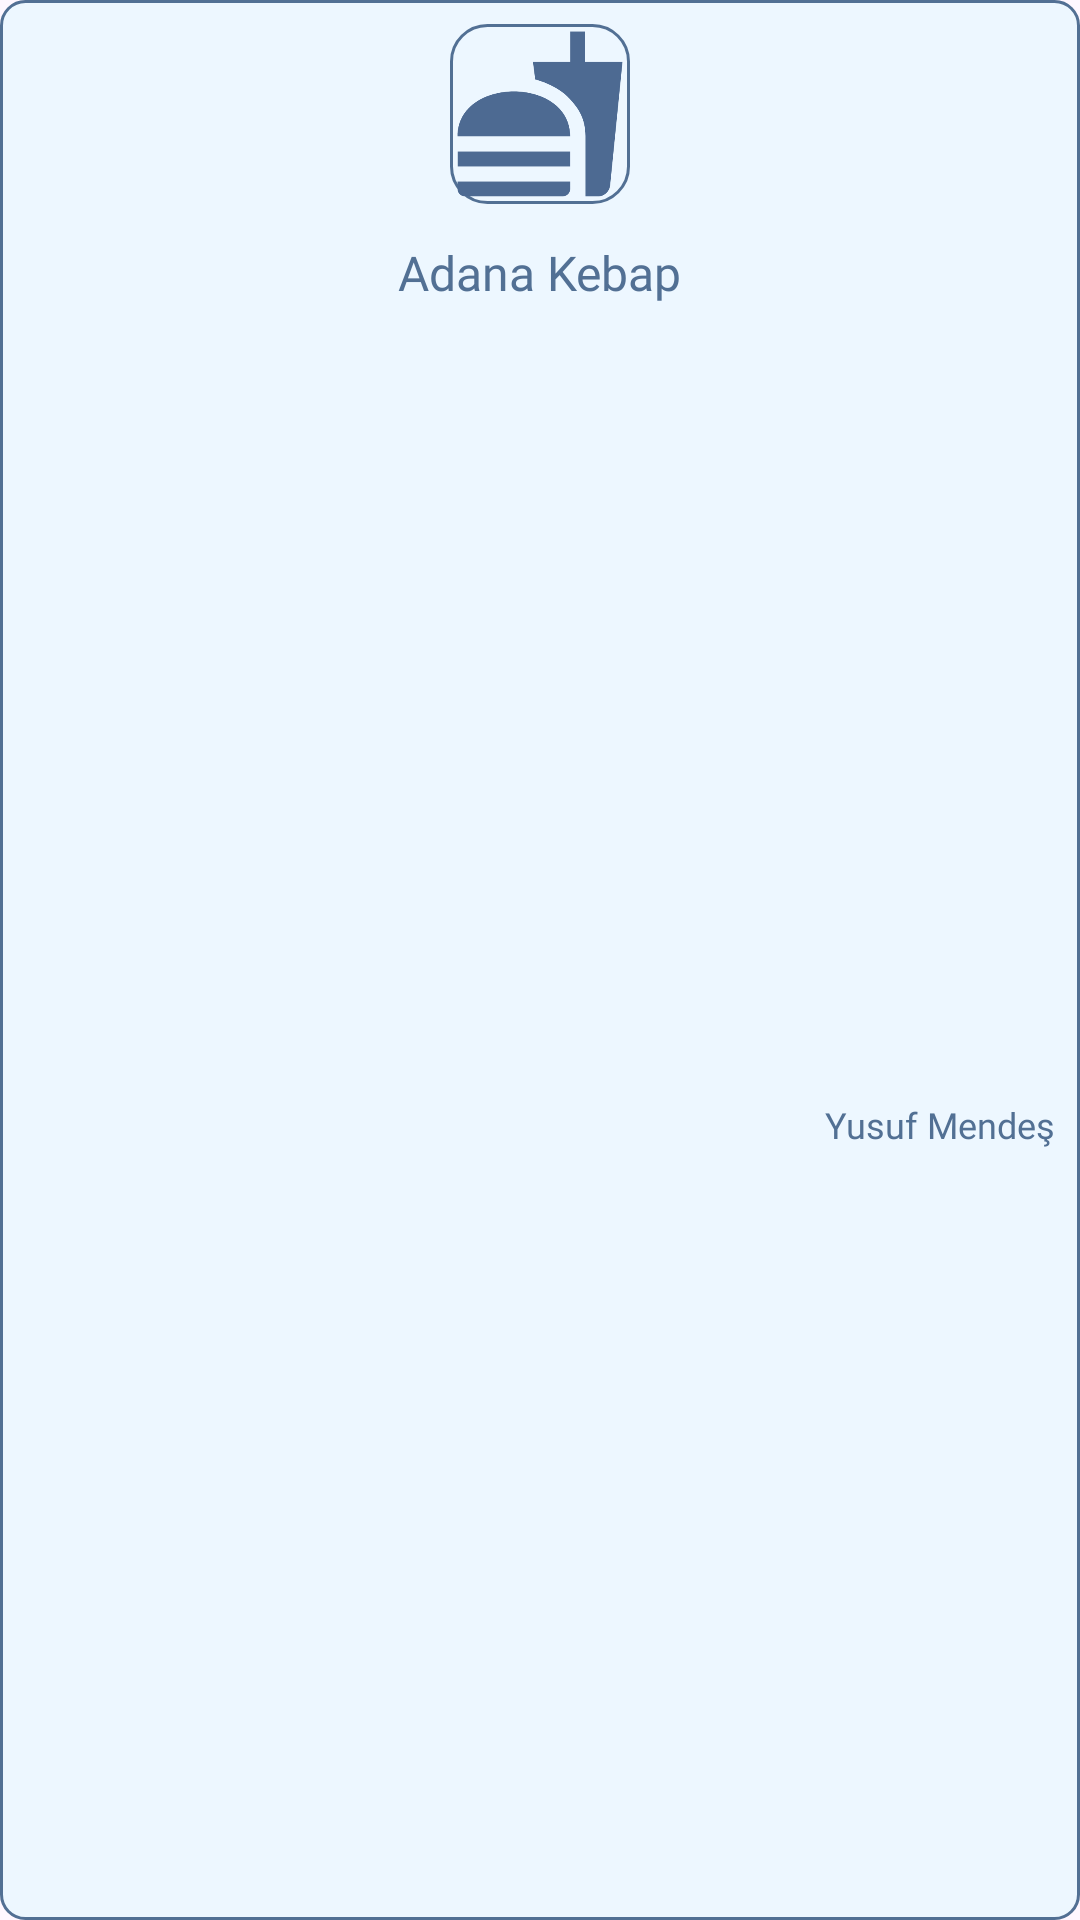

Icons on this 1080×1920 Android screen, each with its box as (left=x1, top=y1, right=x2, bottom=y2):
fastfood: (left=450, top=24, right=630, bottom=204)
